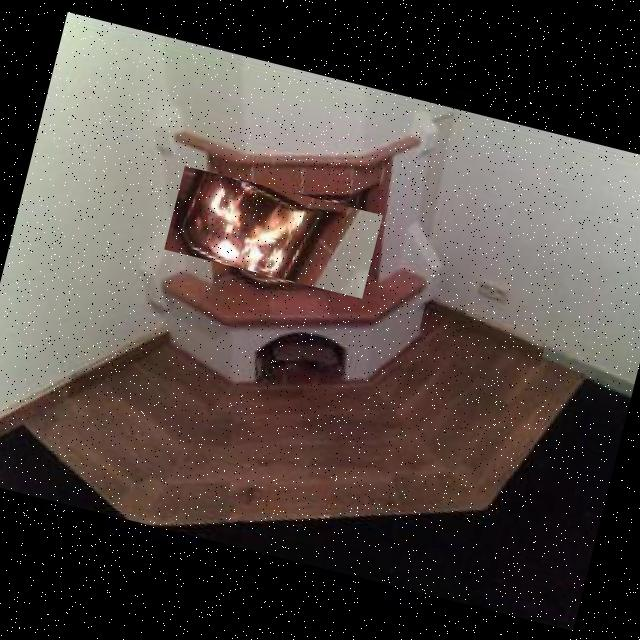fire: (164, 165, 382, 298)
